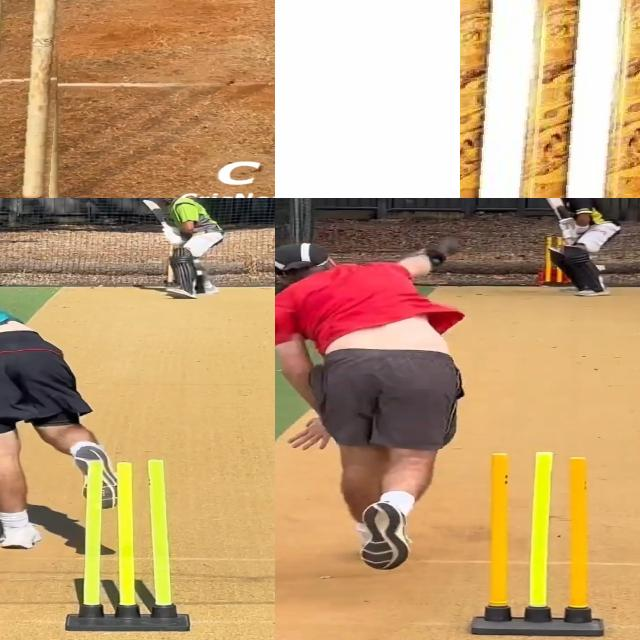Stumps: (460, 0, 640, 198), (469, 446, 608, 636), (74, 458, 179, 634), (0, 0, 63, 198)
